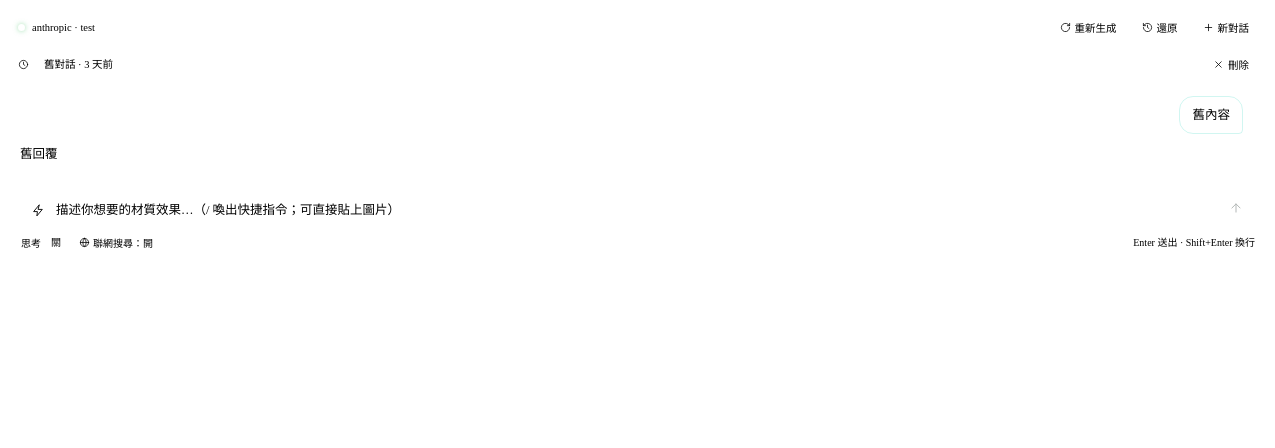
Test: AgentChat sessions (M7) › 新對話 creates a session via POST and clears the view
The width and height of the screenshot is (1275, 448).
Click the button "新對話" at (1226,28), box [1194,16,1258,39]
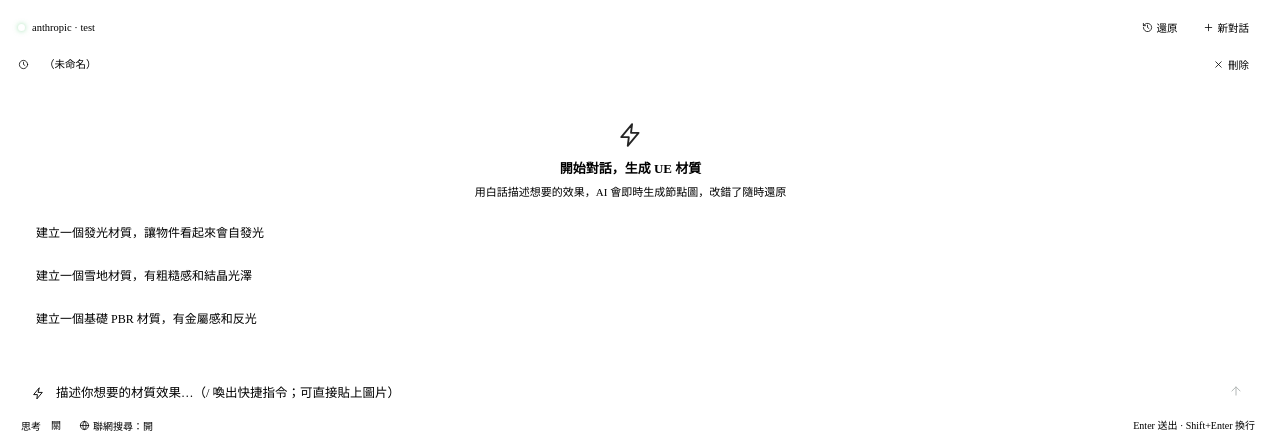
Expected: the text "開始對話，生成 UE 材質" is shown, [560,161,701,176]
Expected: the text "舊回覆" is gone
